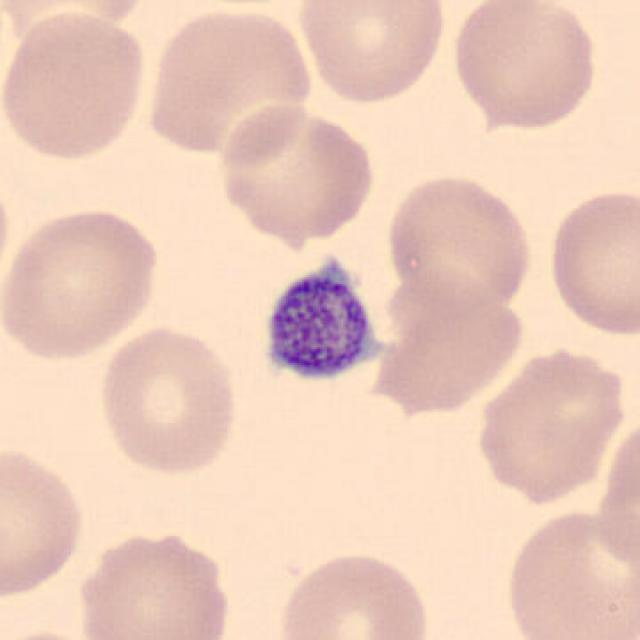Platelets: (252, 247, 398, 393)
RBC: (140, 2, 316, 160), (0, 201, 165, 365), (471, 340, 629, 504), (382, 271, 532, 433), (213, 100, 379, 244), (0, 7, 151, 164), (92, 321, 242, 479), (382, 168, 537, 319), (448, 0, 601, 132), (500, 504, 638, 640), (73, 527, 235, 640), (293, 0, 450, 108), (273, 546, 435, 640), (542, 184, 638, 340), (0, 439, 89, 605), (0, 0, 156, 42), (0, 166, 14, 319), (0, 626, 114, 640)
